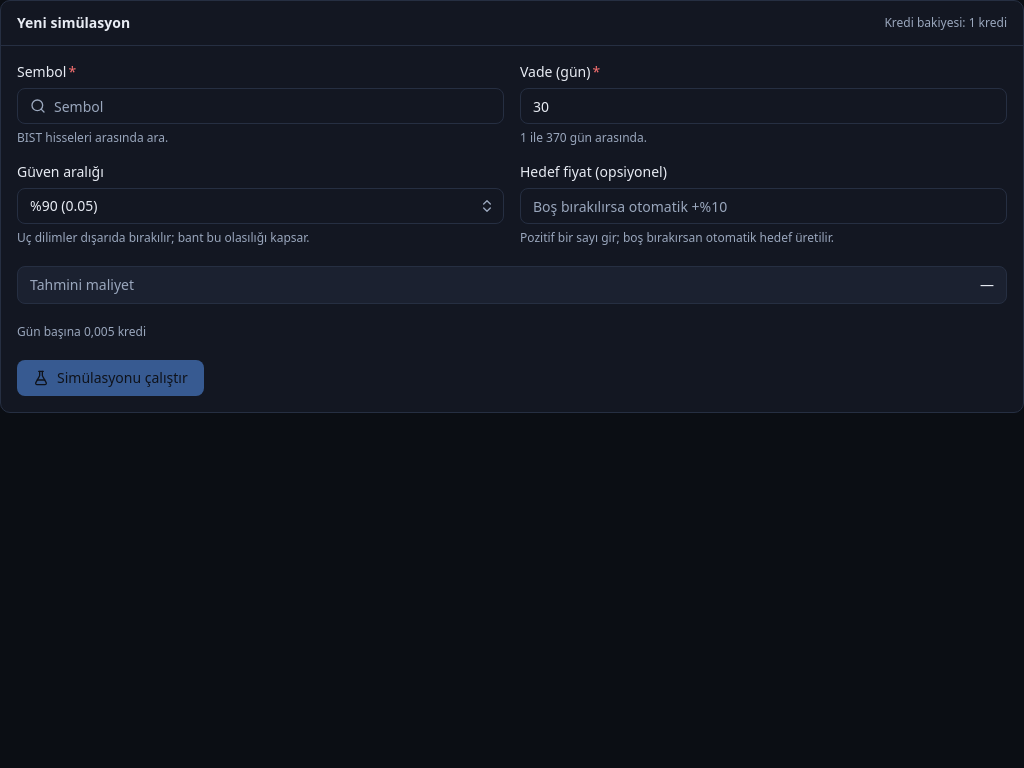
Scenario: SimulationForm — maliyet ve kredi (U-03) › yetersiz kredide gönderimi engeller ve nedenini açıklar
Type "AS" into the dropdown named "Hisse ara" at (260, 106), box top-left (18, 89), bottom-right (503, 123)
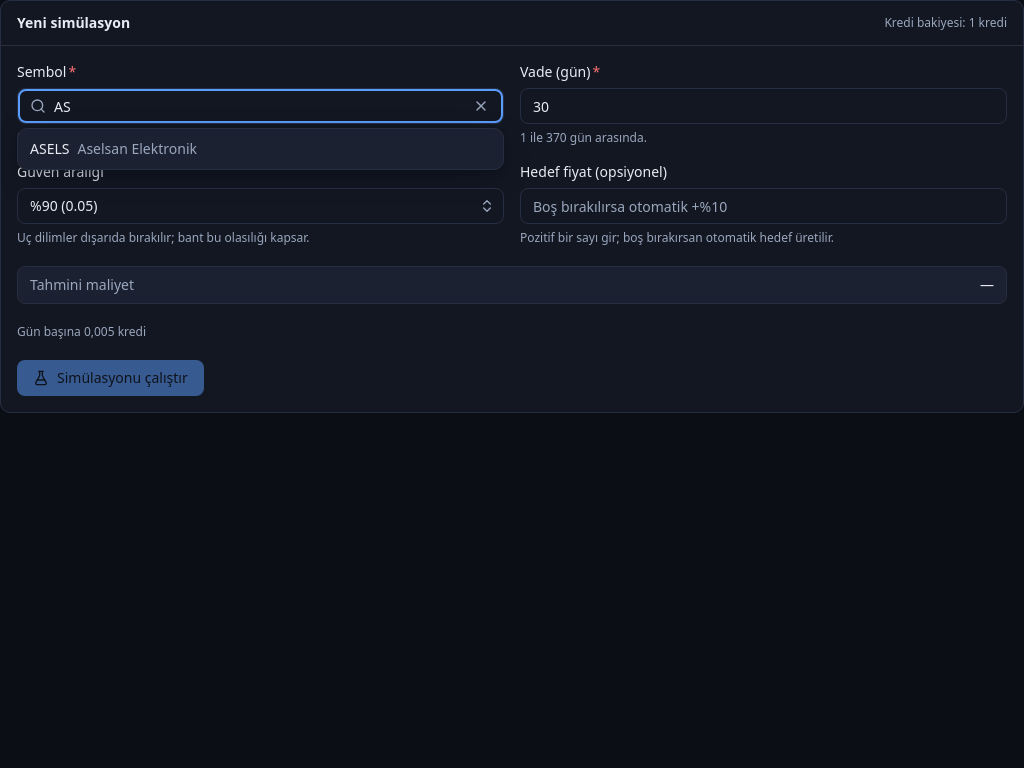
Now the option "ASELS Aselsan Elektronik" is shown, box top-left (30, 139), bottom-right (197, 158)
Press Arrowdown
Press Enter
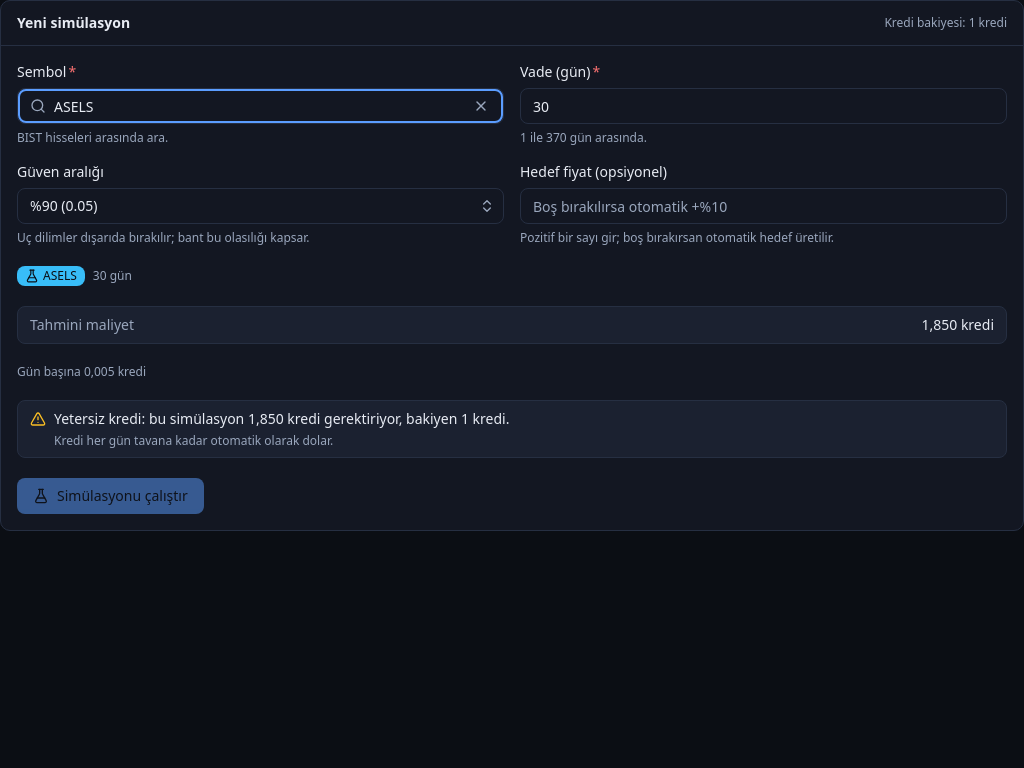
Now the message shows "Yetersiz kredi", box top-left (54, 409), bottom-right (509, 428)
Now the message shows "1,850", box top-left (54, 409), bottom-right (509, 428)
Now the message shows "1", box top-left (54, 409), bottom-right (509, 428)
